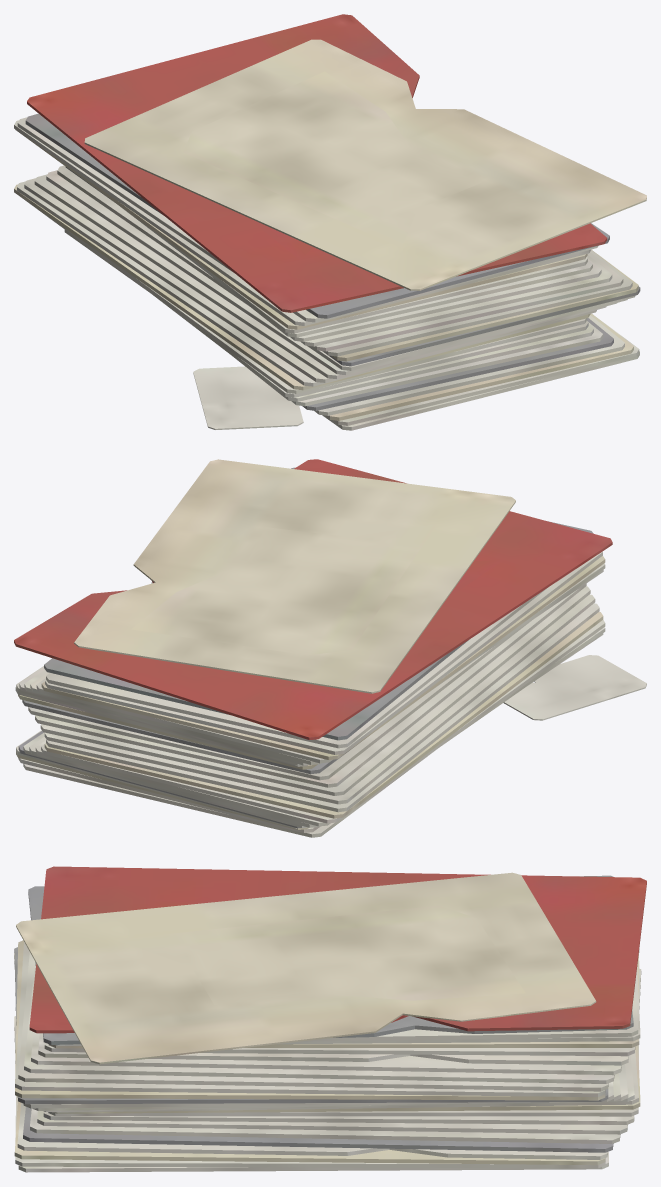
Rendered from O11_paper_stacks_v3.glb.
The picture shows the model from 3 angles, top to bottom: view 1: azimuth 30°, elevation 25°; view 2: azimuth 150°, elevation 25°; view 3: azimuth 270°, elevation 25°; orthographic projection. The views are drawn at different scales.
Visible parts, largest first — view 1: Worn paper leaf; view 2: Worn paper leaf; view 3: Worn paper leaf.
Boxes of the visible parts, x1,y1,x2,y2 form: Worn paper leaf: (14, 14, 646, 430); Worn paper leaf: (14, 459, 646, 837); Worn paper leaf: (14, 866, 646, 1172).
Bounding box in the file's own units: 0.3405 × 0.0998 × 0.4.
Materials: 4 (4 with a texture image).
